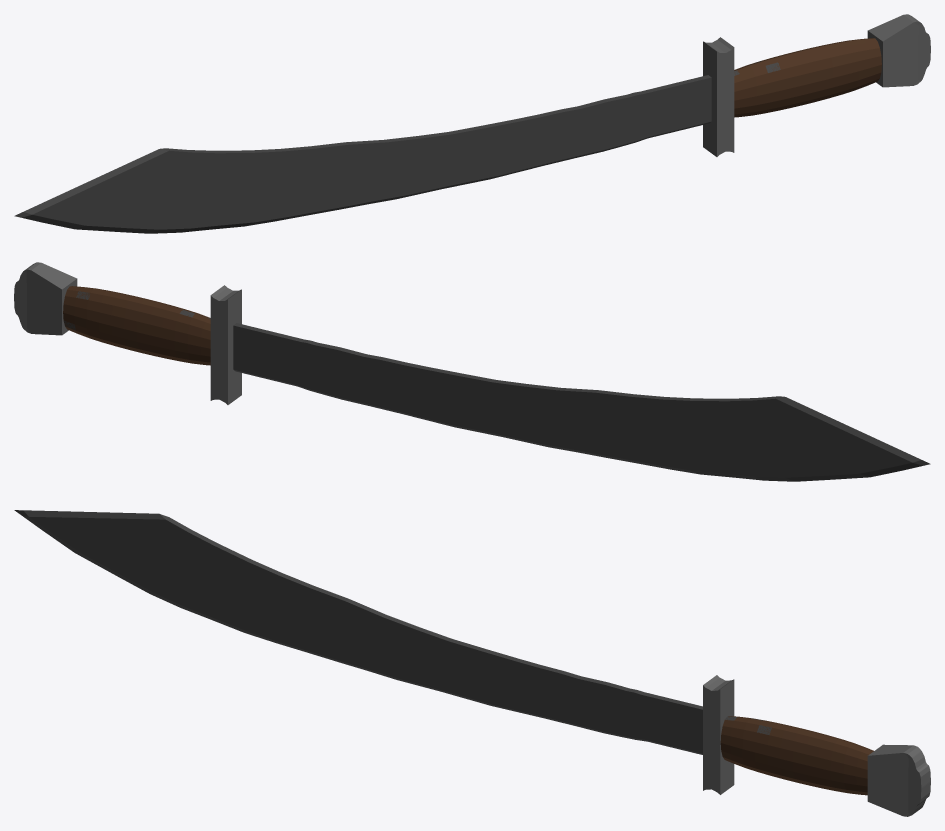
The model's file is swordRogue.fbx.
3 views of the same model, one above another, from view 1: azimuth 30°, elevation 25°; view 2: azimuth 150°, elevation 25°; view 3: azimuth 330°, elevation 25° (orthographic).
Parts seen in each view (by area): view 1: dual sword; view 2: dual sword; view 3: dual sword.
Boxes of the visible parts, <box> form: dual sword: <box>14,14,930,233</box>; dual sword: <box>14,262,930,481</box>; dual sword: <box>14,510,930,816</box>.
Size of the model in its own units: 467 by 67.45 by 14.56.
